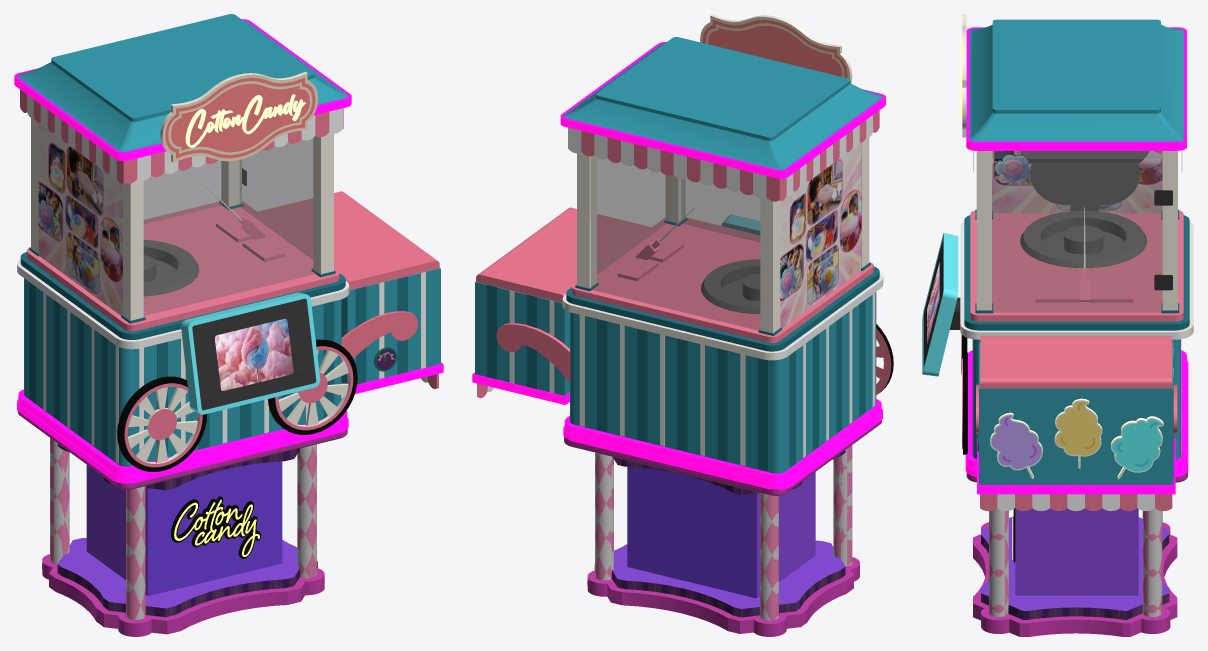
File: Cotton Candy Mini Machine.glb
3 renders of one model, left to right at view 1: azimuth 30°, elevation 25°; view 2: azimuth 150°, elevation 25°; view 3: azimuth 270°, elevation 25°, orthographic. The views are drawn at different scales.
Visible parts, largest first — view 1: polySurface2, pCube34, Body11, polySurface31, polySurface4, Body15, pCube76, pCube30, group8_polySurface14, group6_pCube61, pCube78, pCylinder22 (+13 smaller); view 2: polySurface2, polySurface31, pCube34, polySurface4, Body11, Body15, group6_pCube61, pCube76, pCube33.001, pCube78, group8_polySurface14, pCube73 (+8 smaller); view 3: pCube34, pCube78, pCube76, polySurface4, Body11, Body15, polySurface2, bevelPolygon4, plate_for_cc:Cotton_candy:cotton candy new, pCube30, polySurface20, polySurface31 (+9 smaller).
Part boxes in pixels (x1,y1,x2,y2): polySurface2: [38, 122, 316, 315]; pCube34: [14, 14, 351, 161]; Body11: [42, 438, 324, 636]; polySurface31: [17, 278, 348, 483]; polySurface4: [17, 201, 349, 349]; Body15: [86, 461, 282, 595]; pCube76: [258, 191, 443, 393]; pCube30: [181, 292, 320, 414]; group8_polySurface14: [160, 71, 318, 162]; group6_pCube61: [29, 282, 334, 463]; pCube78: [240, 139, 312, 259]; pCylinder22: [117, 376, 206, 471]; polySurface2: [591, 142, 861, 330]; polySurface31: [563, 292, 882, 489]; pCube34: [560, 37, 885, 178]; polySurface4: [562, 218, 883, 360]; Body11: [587, 445, 859, 636]; Body15: [627, 467, 815, 598]; group6_pCube61: [579, 293, 875, 471]; pCube76: [472, 207, 651, 404]; pCube33.001: [568, 110, 879, 201]; pCube78: [597, 158, 667, 273]; group8_polySurface14: [700, 14, 852, 83]; pCube73: [758, 197, 781, 335]; pCube34: [966, 19, 1186, 150]; pCube78: [992, 163, 1162, 312]; pCube76: [977, 336, 1175, 494]; polySurface4: [960, 210, 1193, 339]; Body11: [973, 508, 1177, 636]; Body15: [1015, 508, 1138, 595]; polySurface2: [992, 151, 1162, 213]; bevelPolygon4: [1021, 151, 1149, 211]; plate_for_cc:Cotton_candy:cotton candy new: [1020, 210, 1147, 267]; pCube30: [922, 233, 958, 376]; polySurface20: [980, 494, 1172, 511]; polySurface31: [965, 339, 1188, 477].
Bounding box in the file's own units: 1 × 1.56 × 0.6971.
Materials: 30 (9 with a texture image).
